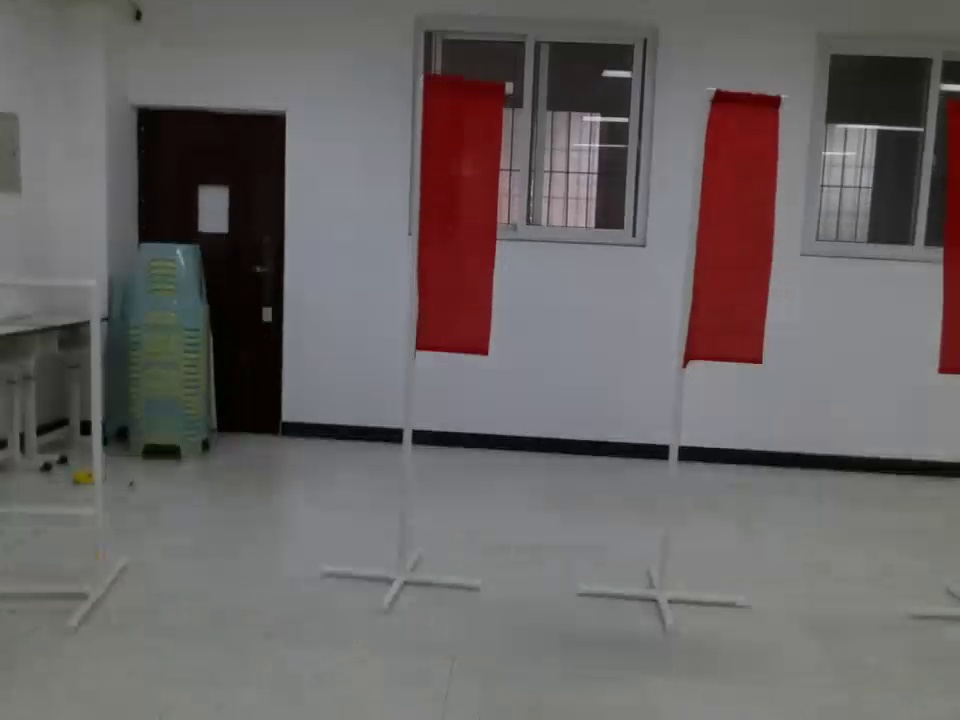qi: (682, 85, 776, 374), (411, 72, 500, 361), (938, 95, 960, 384)
